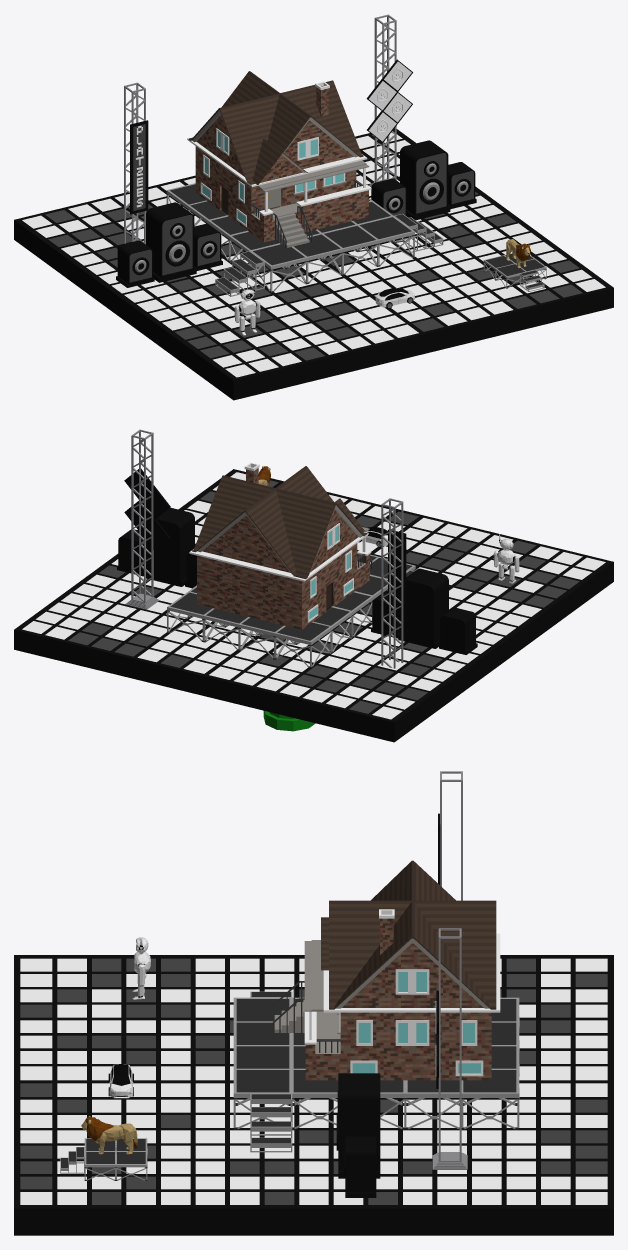
3 renders of one model, top to bottom at view 1: azimuth 30°, elevation 25°; view 2: azimuth 150°, elevation 25°; view 3: azimuth 270°, elevation 25°, orthographic. The views are drawn at different scales.
Visible parts, largest first — view 1: Cube.008, Cube.117, OBJRANDOM_PLATZEEBOT, VEHICLES_TESLA; view 2: Cube.008, Cube.117, OBJRANDOM_PLATZEEBOT, UNDERGROUND_PIPES; view 3: Cube.008, Cube.117, ANIMAL_LEON, VEHICLES_TESLA, OBJRANDOM_PLATZEEBOT.
Part boxes in pixels (x1,y1,x2,y2): Cube.008: (14, 14, 613, 400); Cube.117: (187, 71, 371, 248); OBJRANDOM_PLATZEEBOT: (234, 284, 260, 335); VEHICLES_TESLA: (375, 288, 415, 308); Cube.008: (14, 429, 613, 742); Cube.117: (189, 462, 372, 629); OBJRANDOM_PLATZEEBOT: (493, 534, 519, 583); UNDERGROUND_PIPES: (263, 711, 315, 731); Cube.008: (14, 771, 613, 1235); Cube.117: (272, 860, 500, 1080); ANIMAL_LEON: (81, 1116, 137, 1155); VEHICLES_TESLA: (108, 1064, 133, 1098); OBJRANDOM_PLATZEEBOT: (132, 937, 150, 999).
Size of the model in its own units: 4000 by 2555 by 4000.
Materials: 36 (2 with a texture image).
